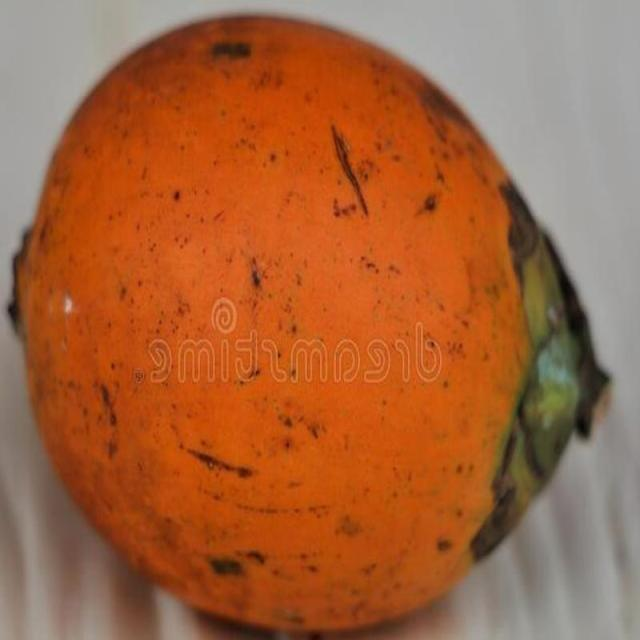good: (13, 14, 609, 638)
